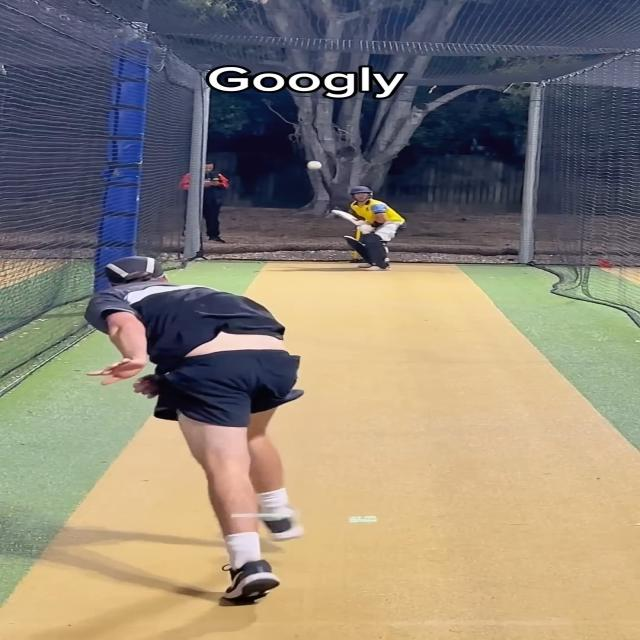Cricket ball: (306, 160, 323, 171)
